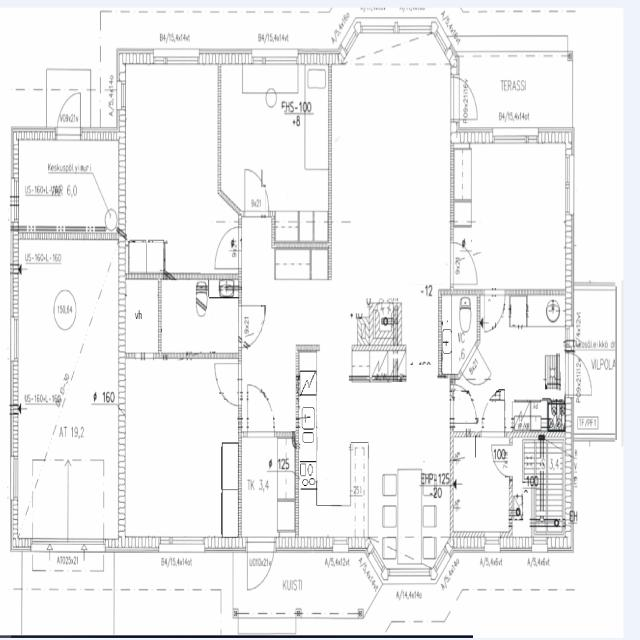door: (460, 343, 493, 401), (247, 536, 274, 598), (248, 384, 274, 437), (565, 354, 597, 395), (450, 78, 482, 119), (57, 86, 80, 140), (214, 364, 242, 406), (245, 168, 269, 216), (238, 305, 265, 347), (215, 227, 242, 269), (481, 391, 505, 438), (451, 243, 477, 283), (450, 384, 476, 422), (484, 288, 505, 331), (492, 445, 512, 476), (136, 352, 153, 388)
